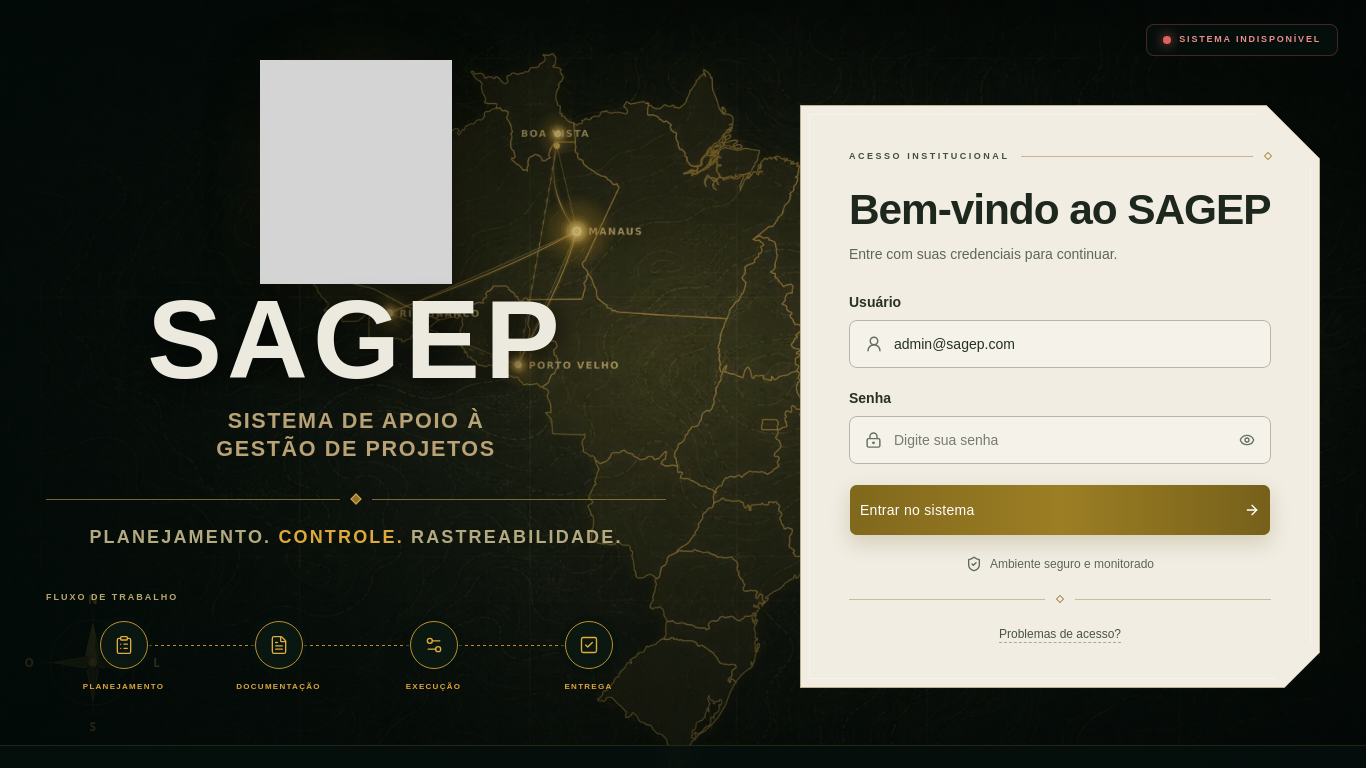
Test: LoginPage › mantém o usuário no login quando as credenciais são inválidas
Type "senha-errada" into the password field labelled "Senha" at (1060, 440), box [849,416,1271,464]
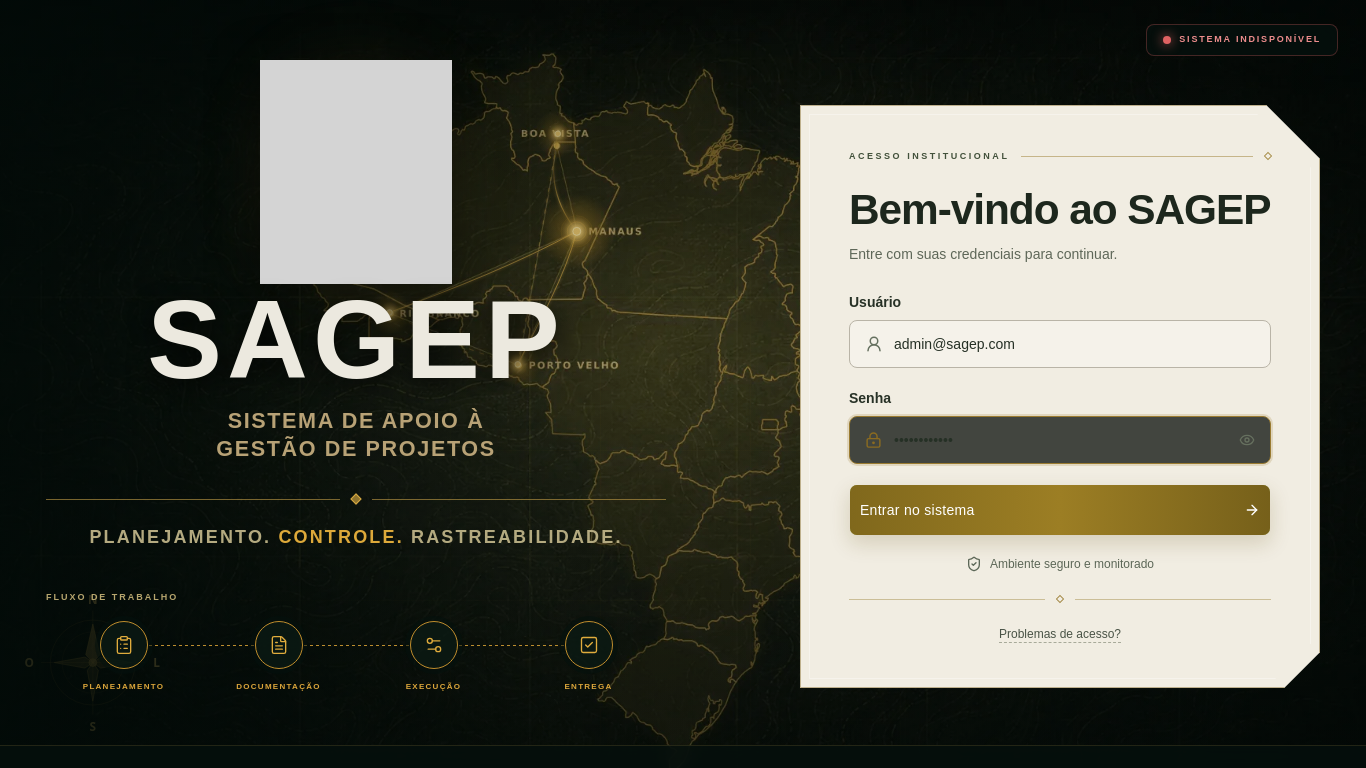
Click the button "Entrar no sistema" at (917, 510), box [849,484,1271,536]
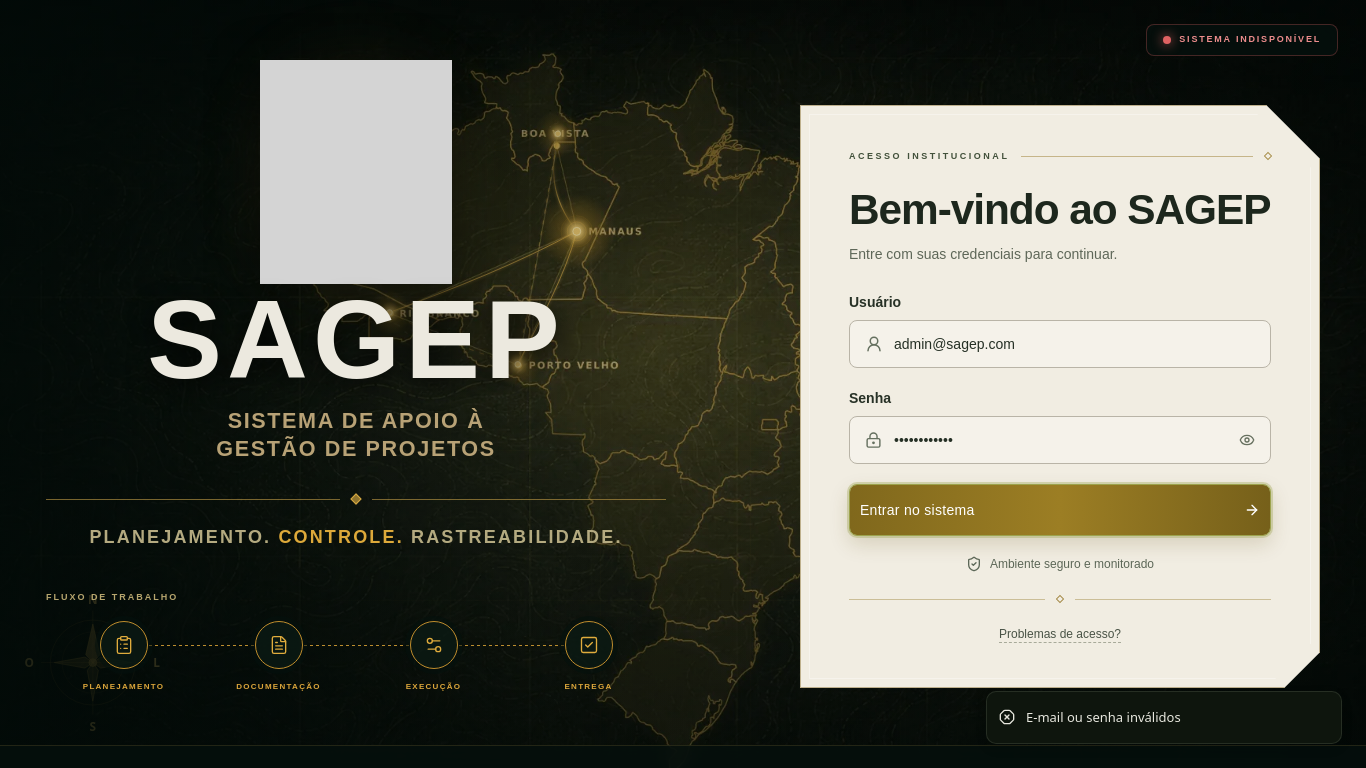
Expected: the heading "Bem-vindo ao SAGEP" is shown, [849,183,1271,236]
Result: the text "E-mail ou senha inválidos" is shown at [1026,708,1181,727]
